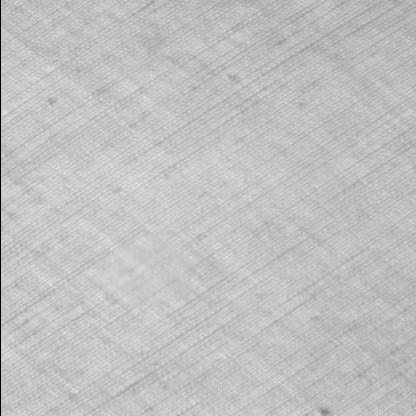oil spot: (87, 233, 205, 310)
